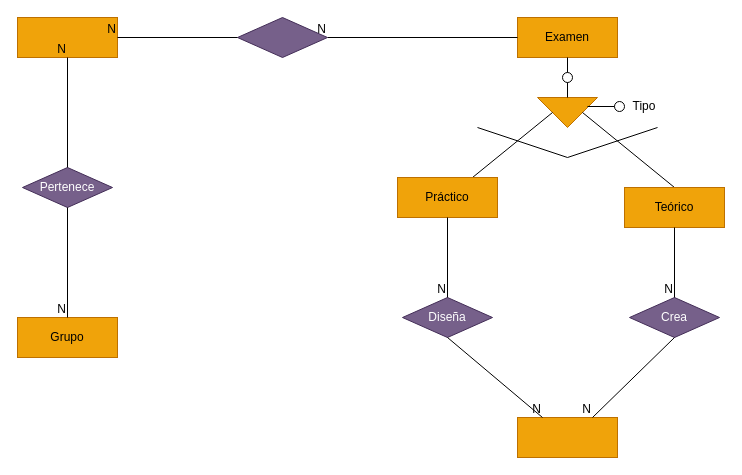
Some shapes in this 742 by 475 pixel diagram are drawn without their labels. The centre of each missing label's shape, as x and y in pixels:
Alumno: the point at 67,37
Profesor: the point at 567,437
Realiza: the point at 282,37
